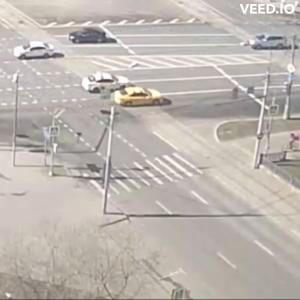car: (115, 86, 166, 108), (15, 43, 64, 62), (69, 31, 110, 46), (253, 35, 290, 51)
